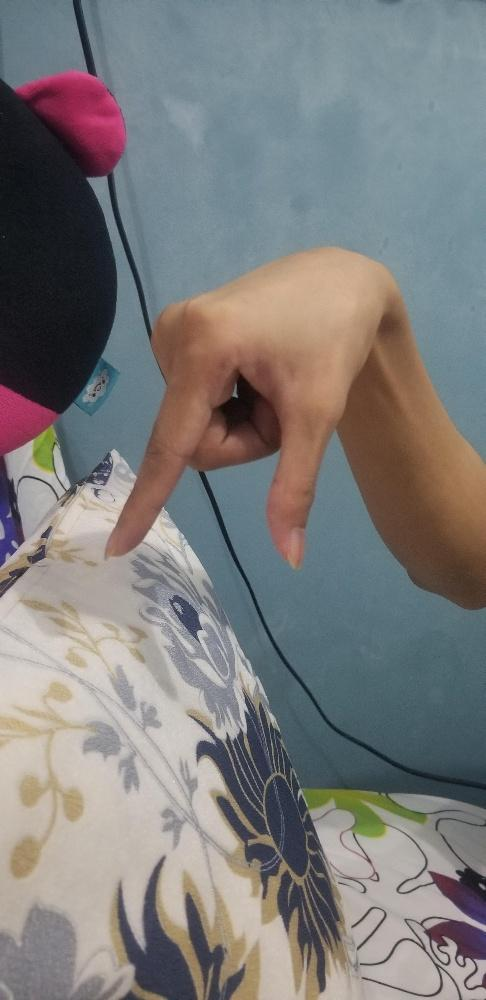q: (104, 241, 404, 569)
